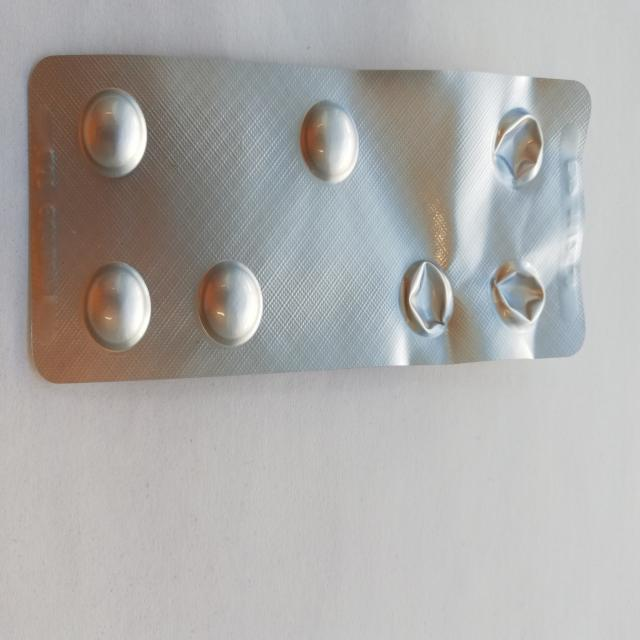Empty: (396, 255, 458, 342), (486, 252, 548, 332), (490, 104, 544, 190)
Pill: (74, 82, 158, 185), (81, 261, 156, 354), (193, 256, 265, 349), (298, 96, 362, 188)
